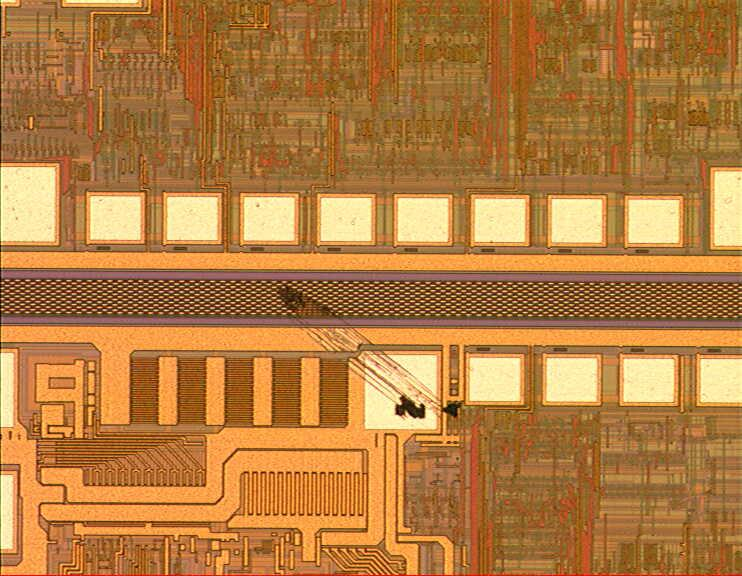SCRATCH: (271, 279, 476, 441)
